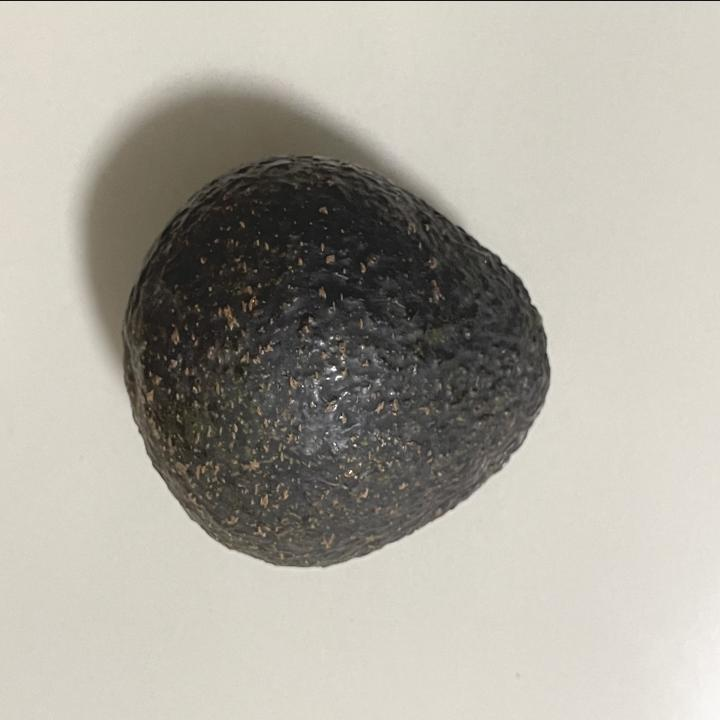Level2: (116, 142, 556, 568)
